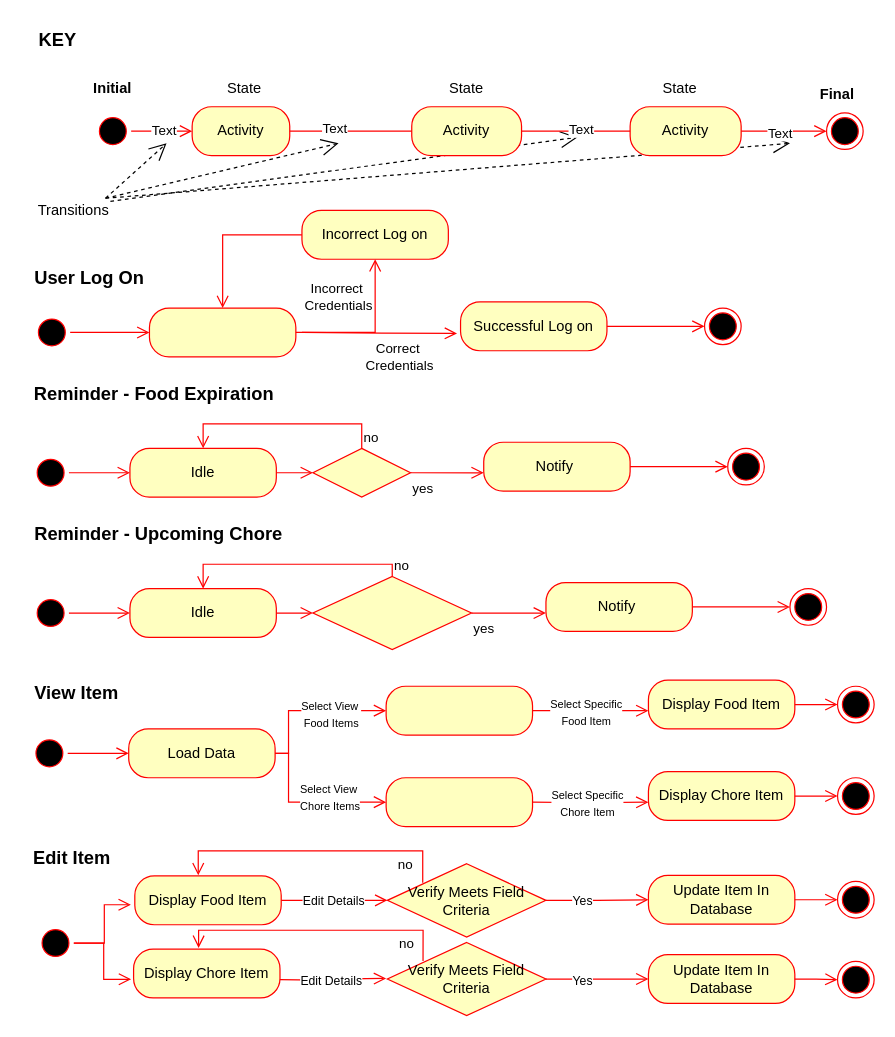
The diagram is 895 pixels wide and 1037 high, and some of its shapes have lost their labels. Here are the shapes that lost their labels. From the top down, the centre of each, then its label:
the point at 222,332: Credentials Entered
the point at 361,472: Reminder = Today?
the point at 392,612: Due Date - recurrence/frequency = Today?
the point at 459,710: Display Food Item List
the point at 459,802: Display Chore Item List
